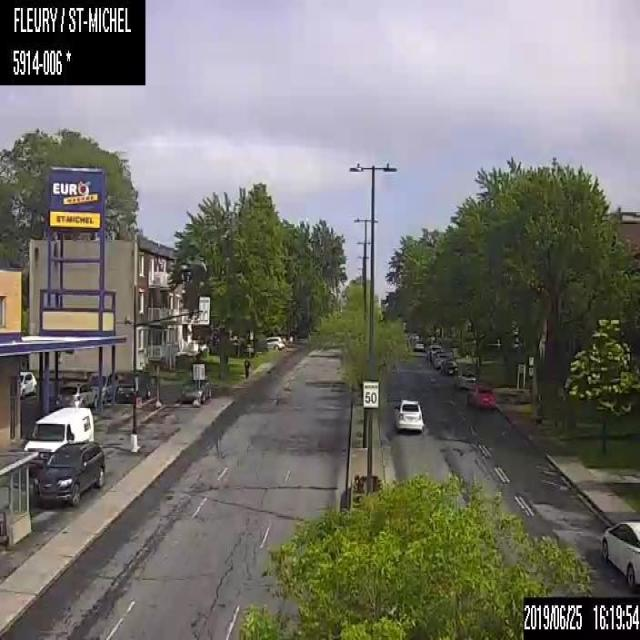pedestrian: (244, 357, 249, 379)
vehicle: (32, 442, 104, 504), (23, 406, 94, 463), (599, 519, 639, 589), (392, 397, 424, 431), (58, 381, 97, 408), (115, 374, 151, 401), (89, 372, 118, 402), (181, 377, 210, 403), (466, 383, 494, 408), (19, 370, 36, 397), (455, 370, 475, 390), (434, 348, 451, 368), (440, 358, 457, 373), (265, 335, 282, 349), (413, 339, 423, 350)
